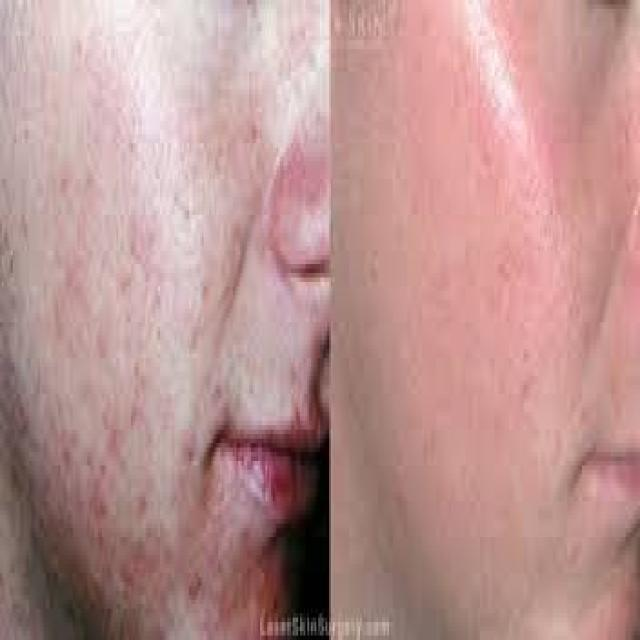Rosacea: (22, 142, 177, 596), (416, 0, 566, 362), (271, 141, 329, 218)
